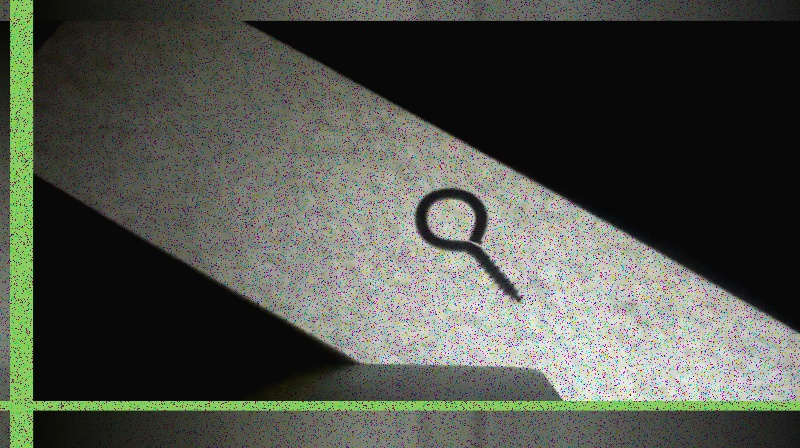O001: (412, 187, 525, 307)
